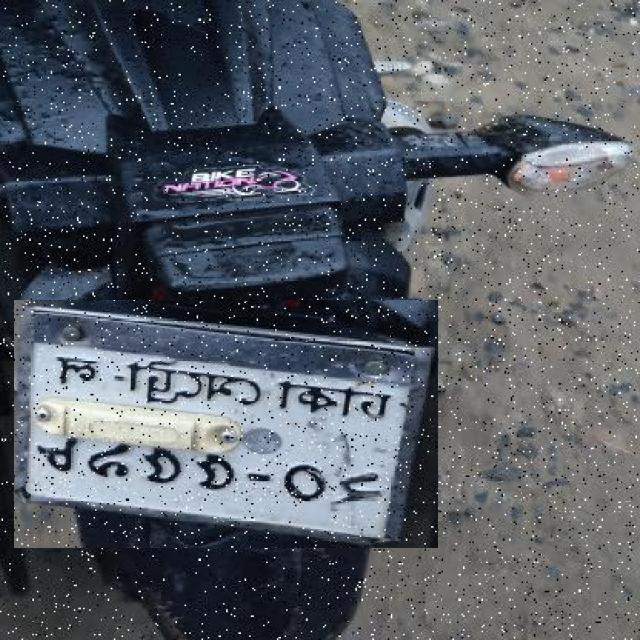numberplate: (14, 300, 438, 548)
